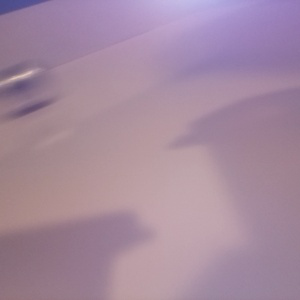alive_ball: (1, 60, 54, 114)
